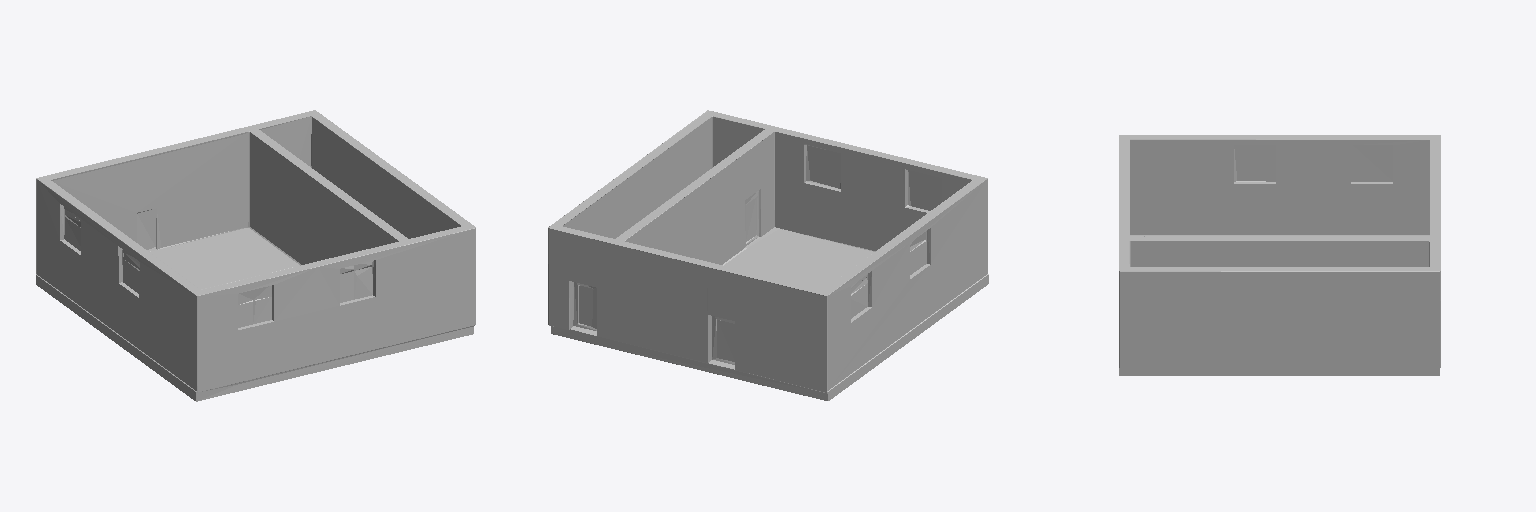
File: SM_ShopRoom_UV1.OBJ
3 renders of one model, left to right at view 1: azimuth 30°, elevation 25°; view 2: azimuth 150°, elevation 25°; view 3: azimuth 270°, elevation 25°, orthographic.
Visible parts, largest first — view 1: UnrealEdObject; view 2: UnrealEdObject; view 3: UnrealEdObject.
Part boxes in pixels (left/top/right/bottom): UnrealEdObject: left=36, top=110, right=475, bottom=401; UnrealEdObject: left=548, top=110, right=988, bottom=400; UnrealEdObject: left=1119, top=135, right=1440, bottom=375.
Bounding box in the file's own units: 1517 × 547 × 1510.